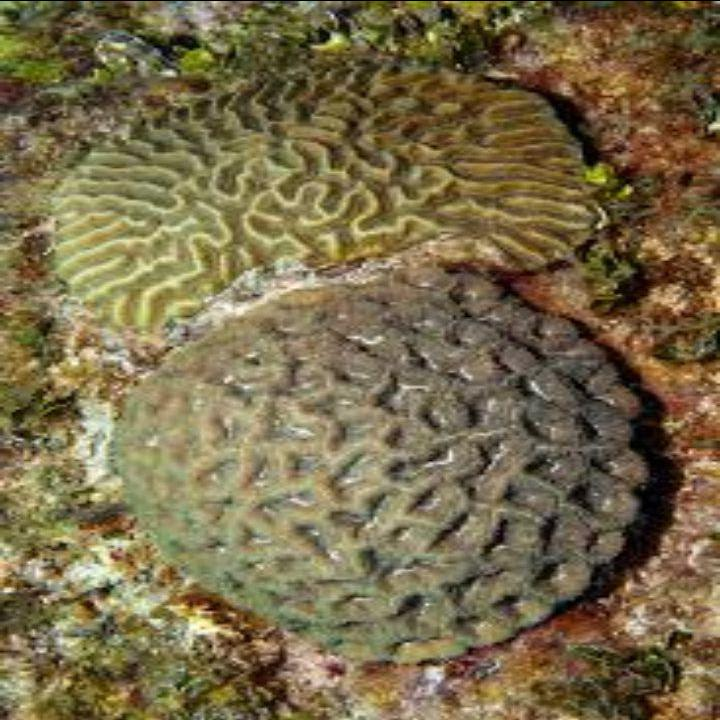Healthy Coral: (31, 60, 605, 668)
